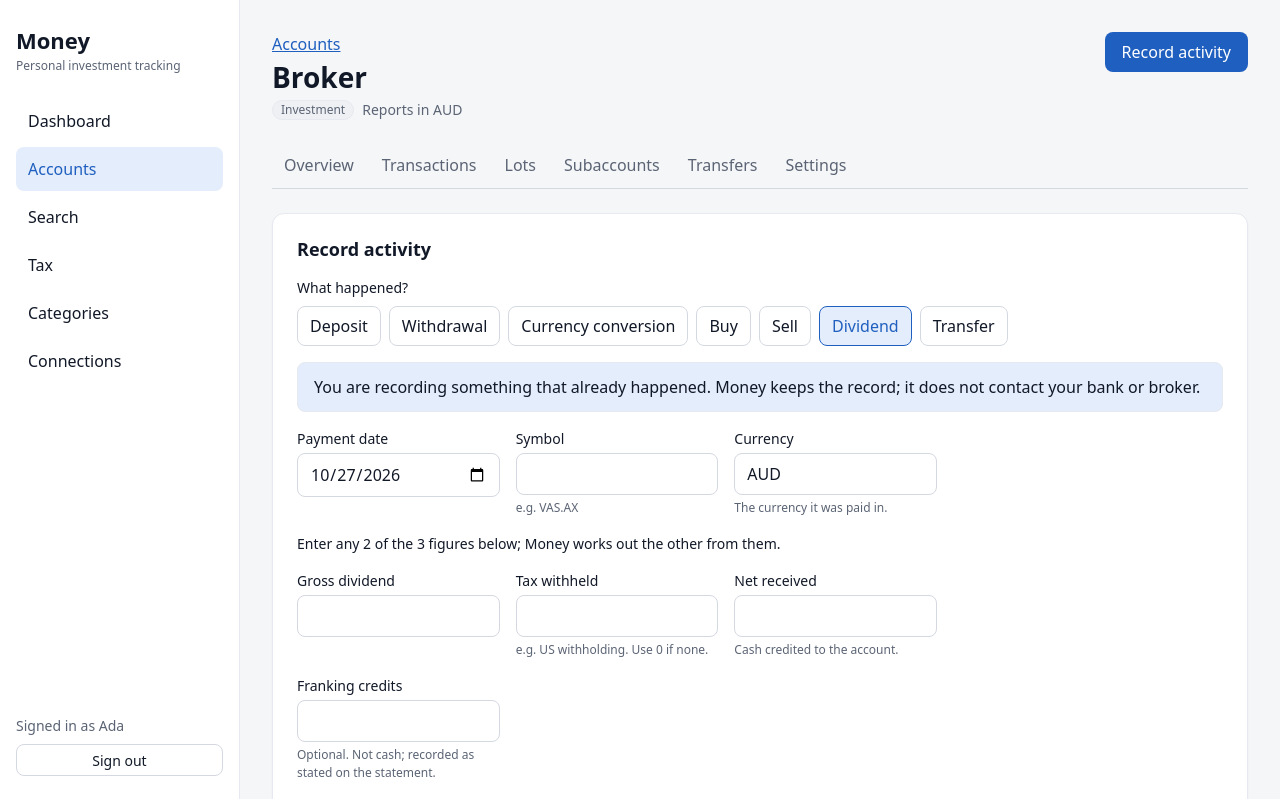
Test case: recording activity › records a dividend from two of three figures
The width and height of the screenshot is (1280, 799).
Type "VOO" into the field labelled "Symbol" at (617, 474), box [516,452,718,494]
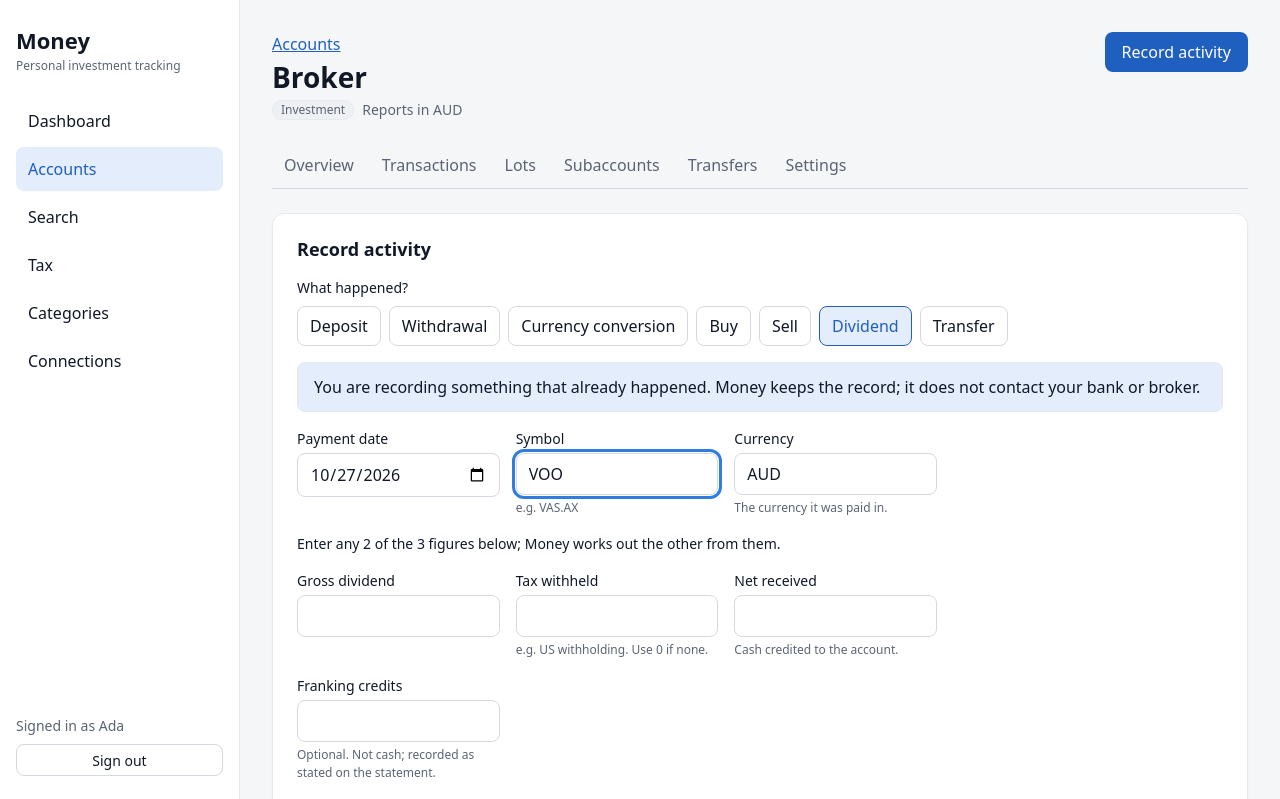
Replace the text in the field labelled "Currency" with "USD" at (836, 474), box [734,452,937,494]
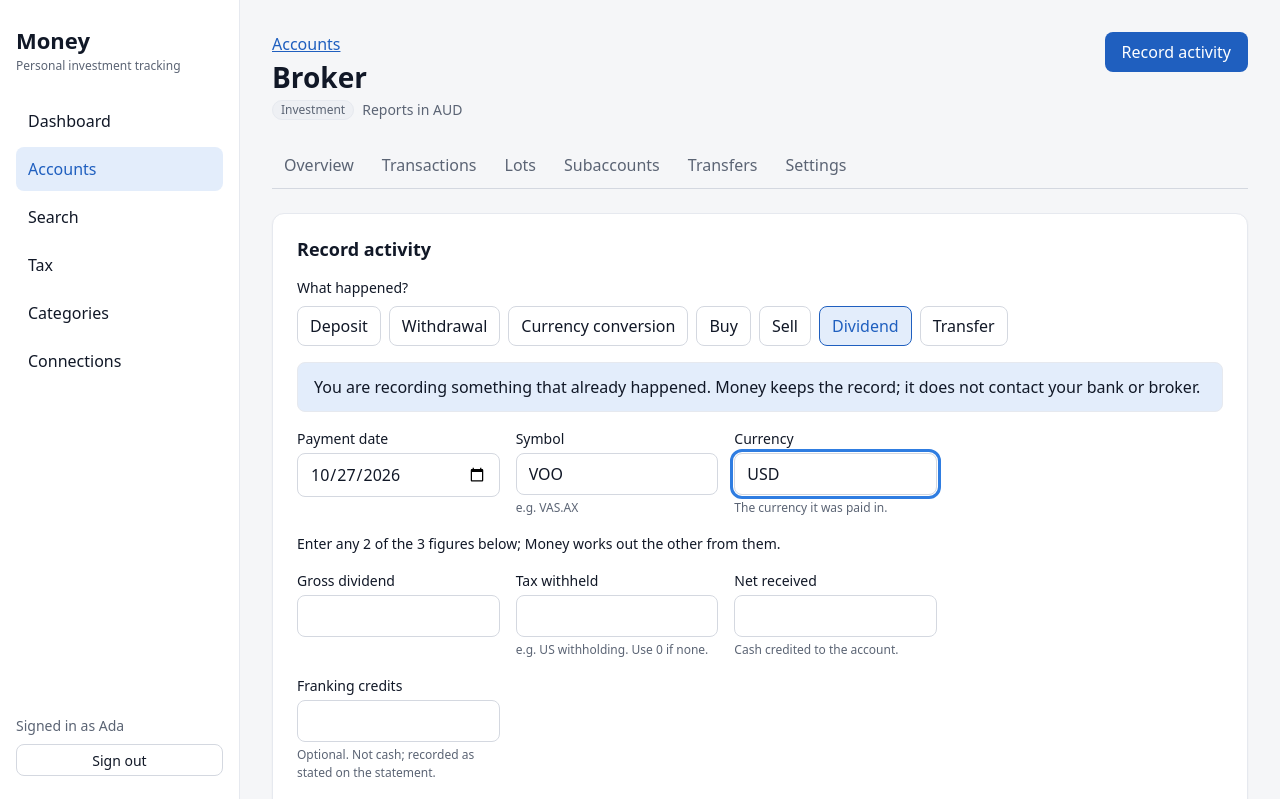
Type "100" into the field labelled "Gross dividend" at (398, 616), box [297,594,500,636]
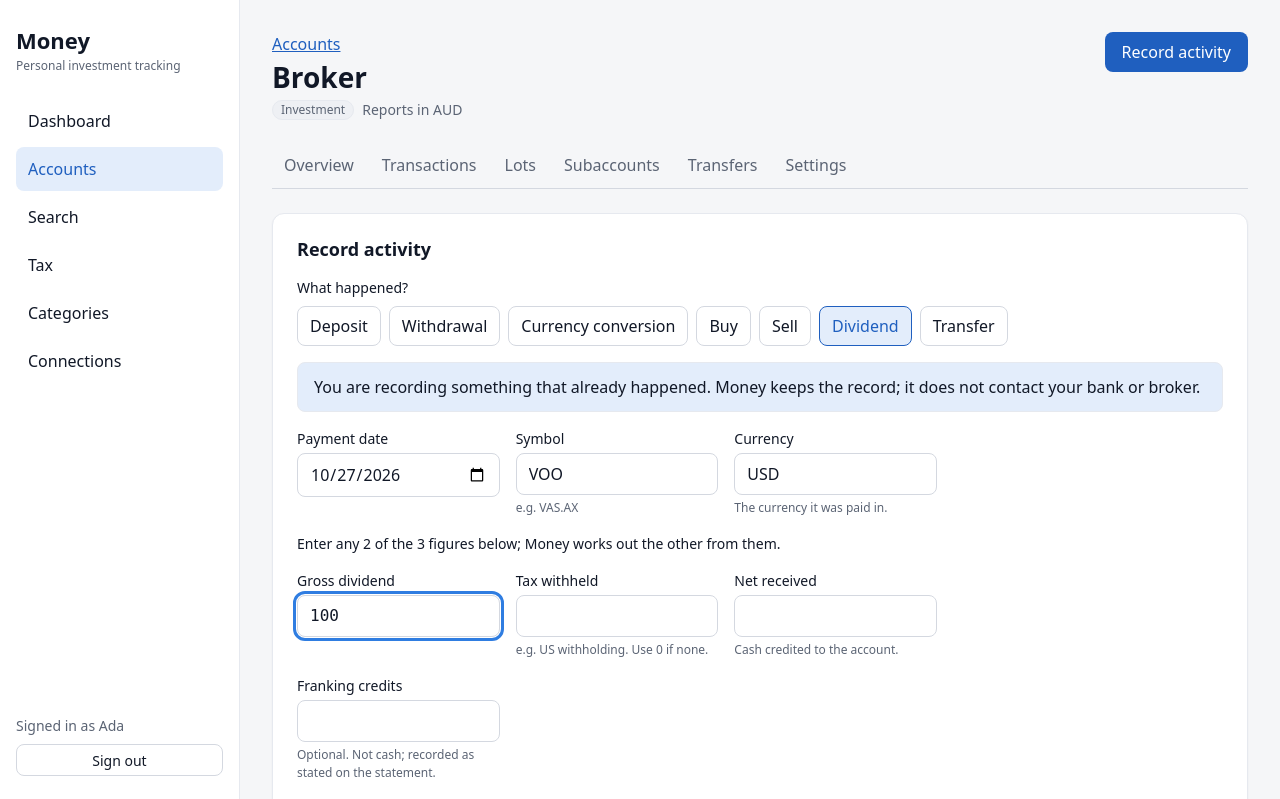
Type "15" into the field labelled "Tax withheld" at (617, 616), box [516,594,718,636]
(page scrolled)
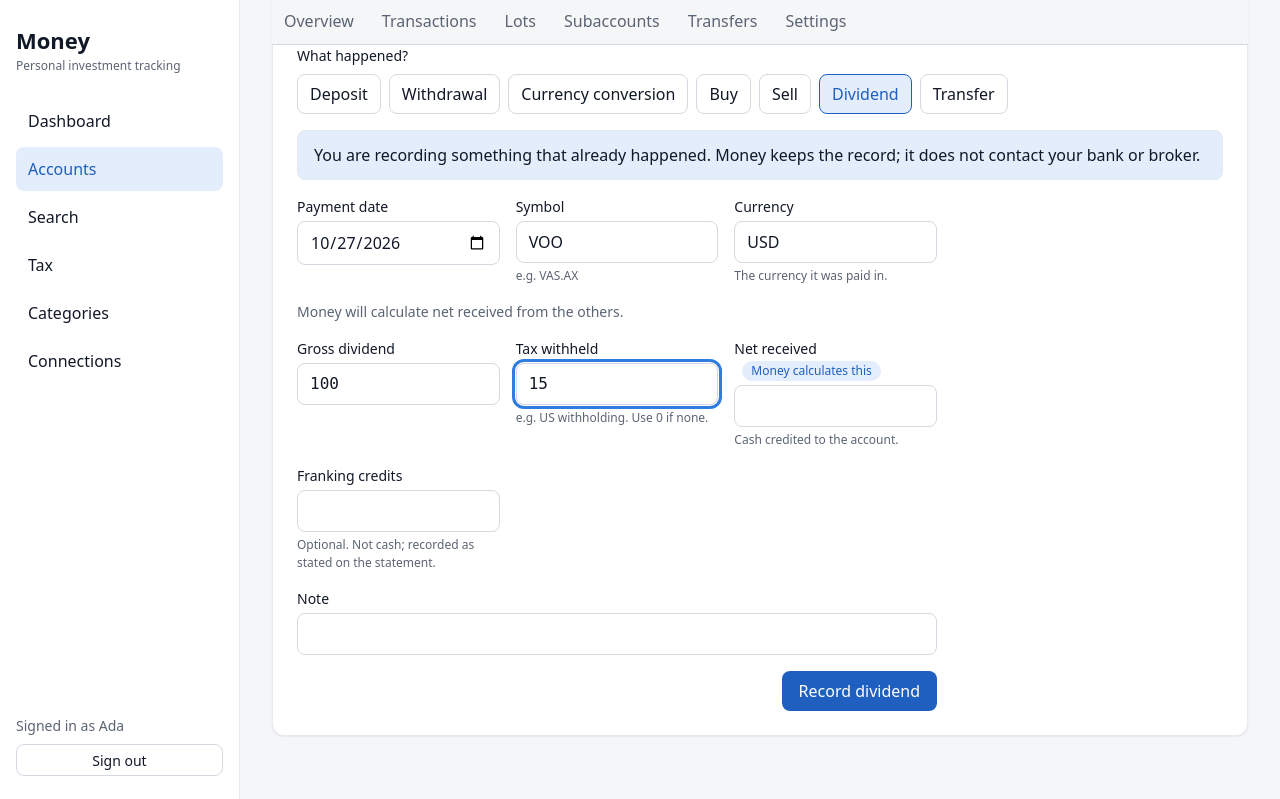
Click the button "Record dividend" at (859, 690), box [782,670,937,710]
(page scrolled)
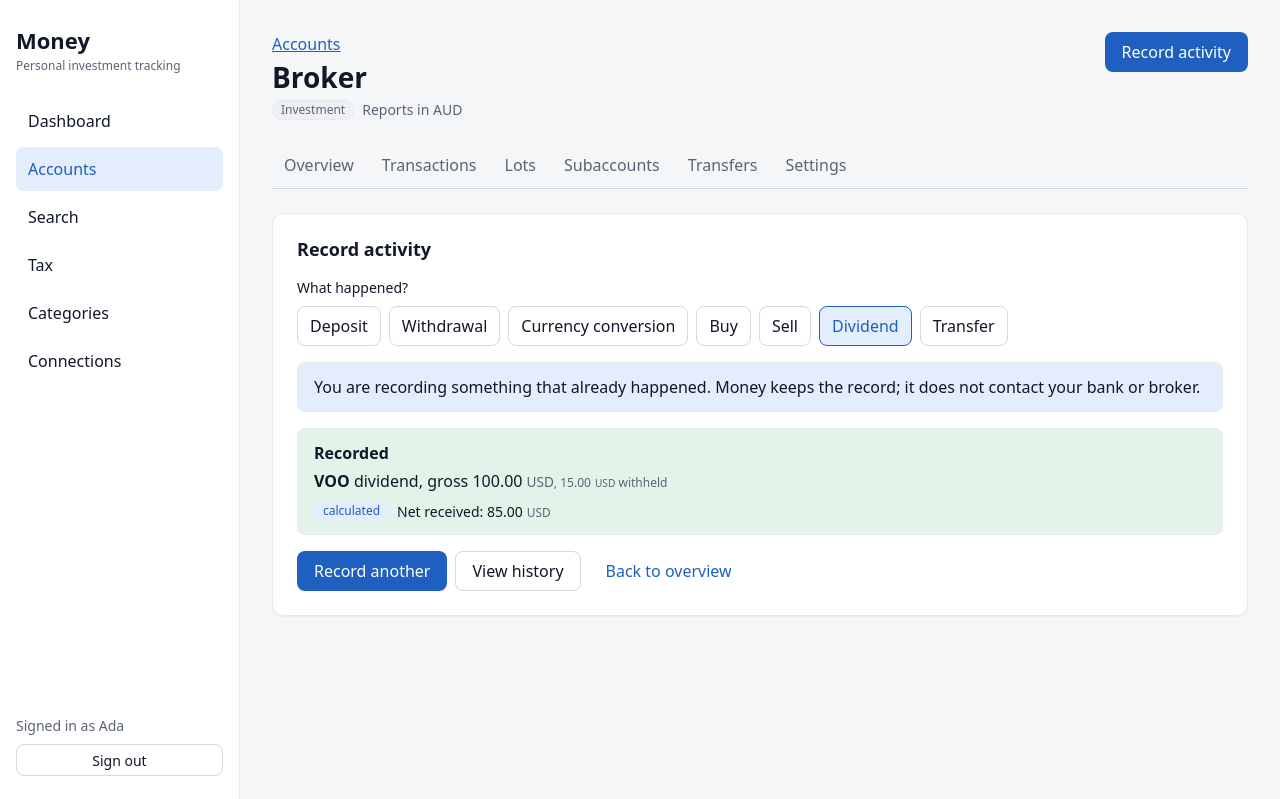
Now the text "Net received: 85.00USD" is shown, box [397,500,551,522]
